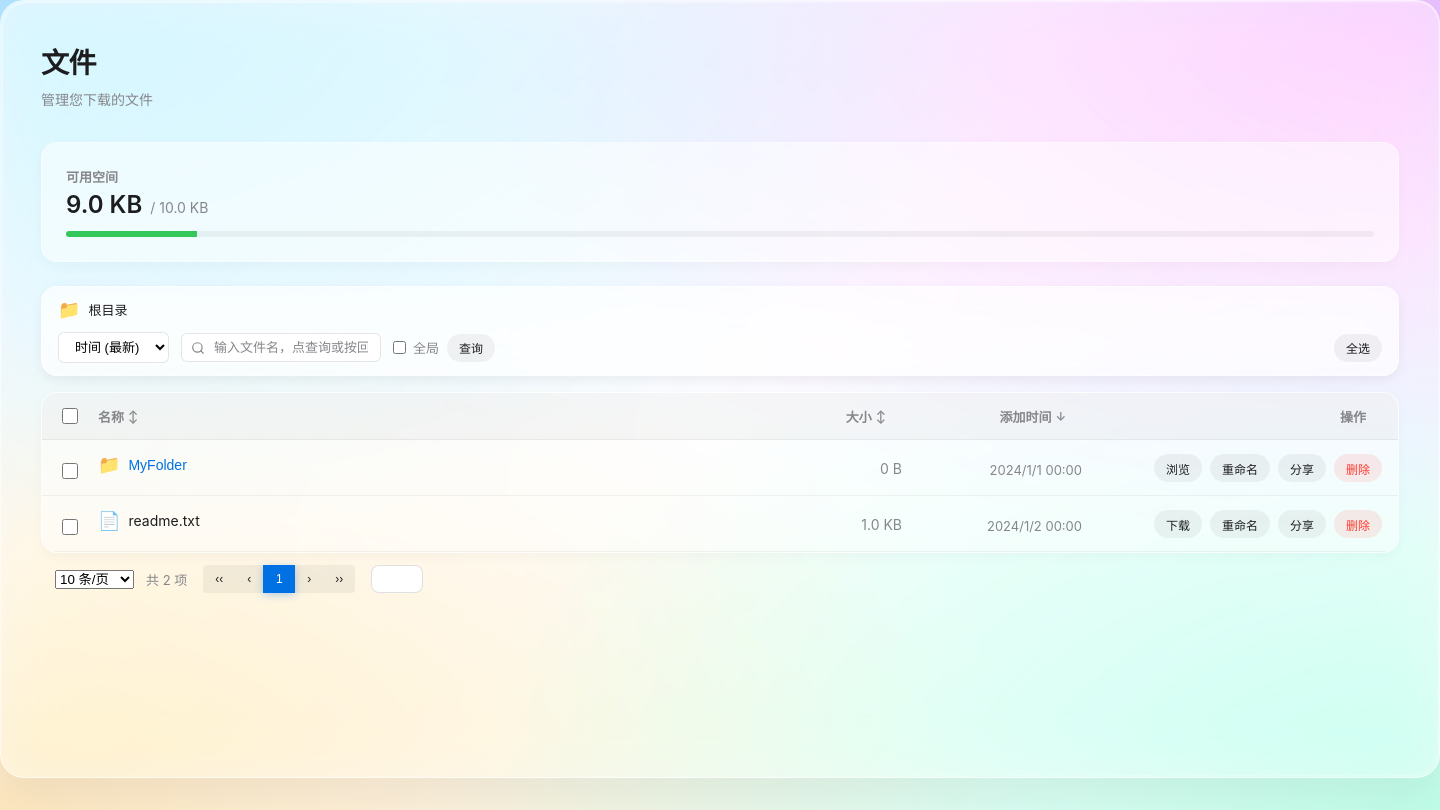
Test: Files page search › T18: locating a top-level item loads its page, closes the dialog and highlights the row
Expected: the button "MyFolder" is shown, [128,456,187,472]
Type "target" into the field named "搜索文件". click: point(281, 348)
box: [181,333,381,362]
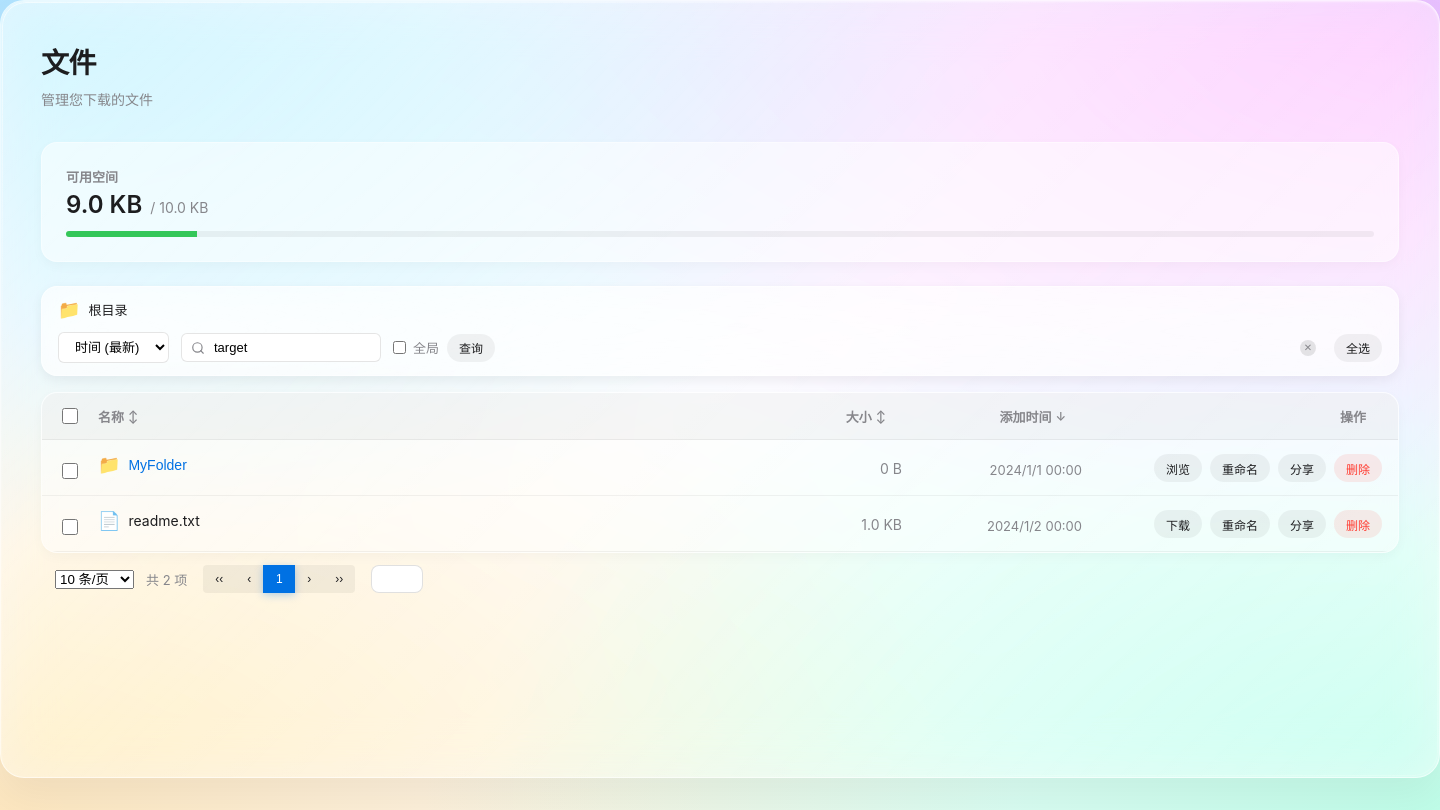
Press Enter in the field named "搜索文件", box [181,333,381,362]
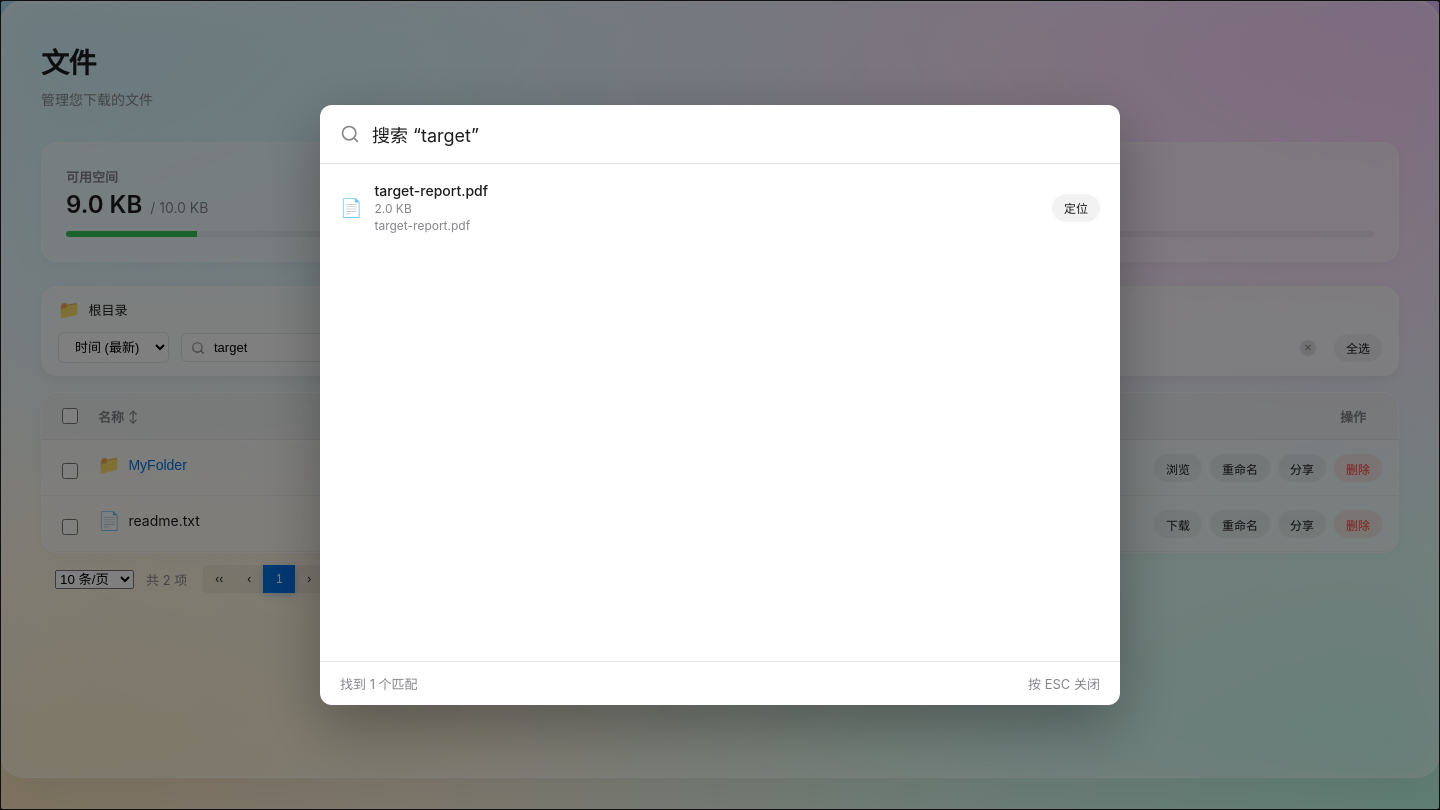
Click the button "定位". click: point(1076, 208)
box: [1052,194,1100,222]
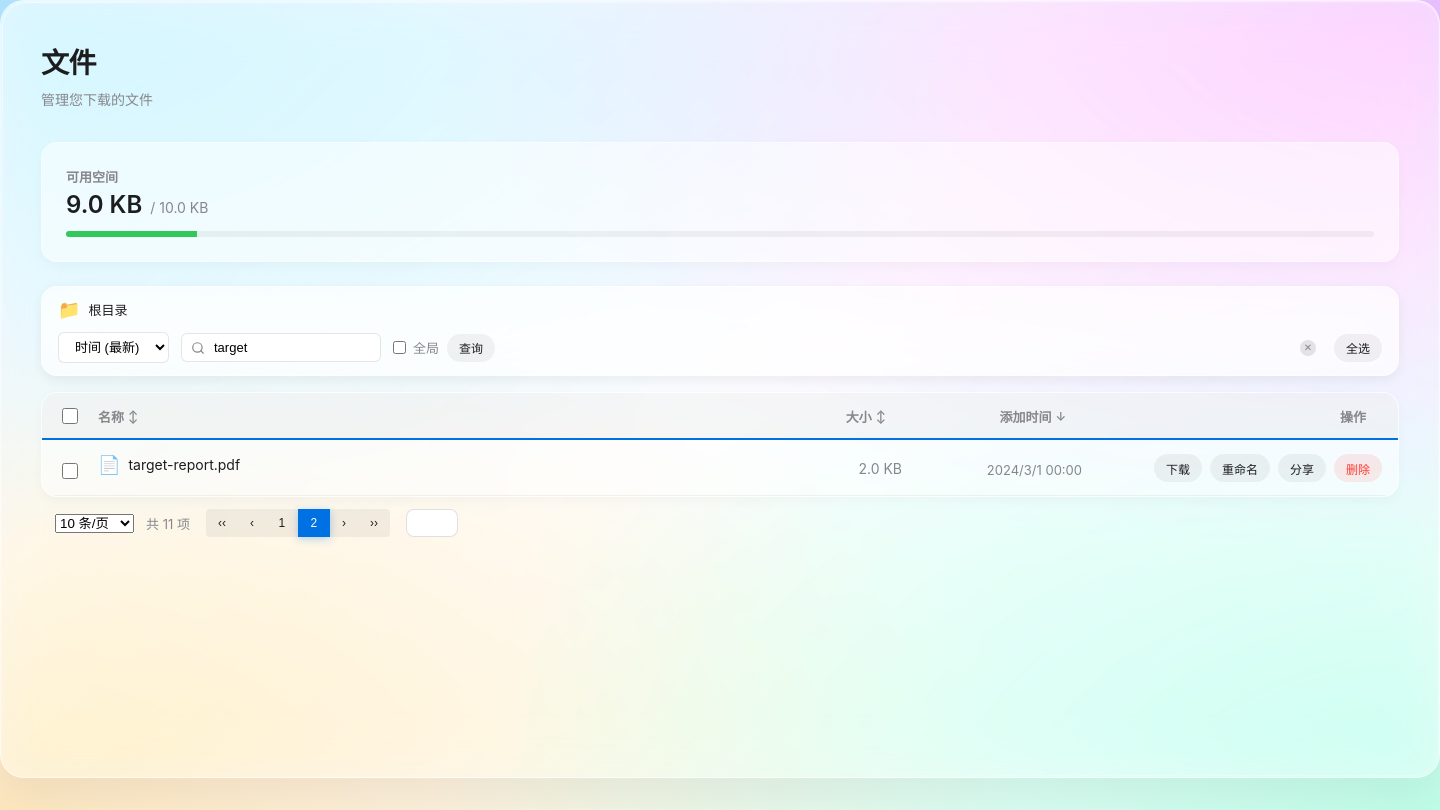
Now the dialog "搜索结果" is gone
Now the element with class "file-locate-highlight" is shown, box [42,440,1398,496]
Now the element with class "file-locate-highlight" shows "target-report.pdf", box [128,456,240,473]
